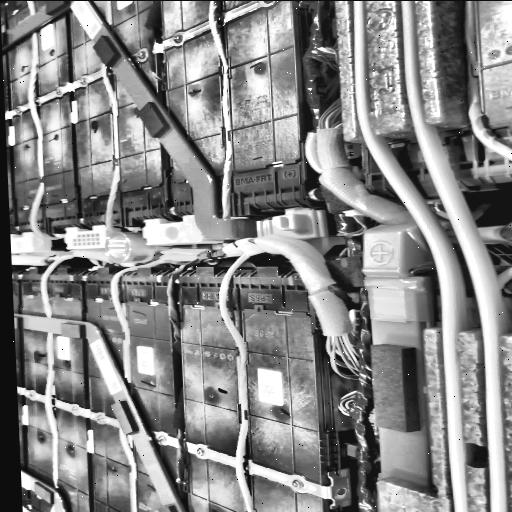busbar: (1, 0, 317, 238), (15, 312, 184, 512), (360, 221, 429, 490)
high_volt_cable: (12, 0, 371, 512), (344, 0, 467, 512), (398, 0, 511, 512)
